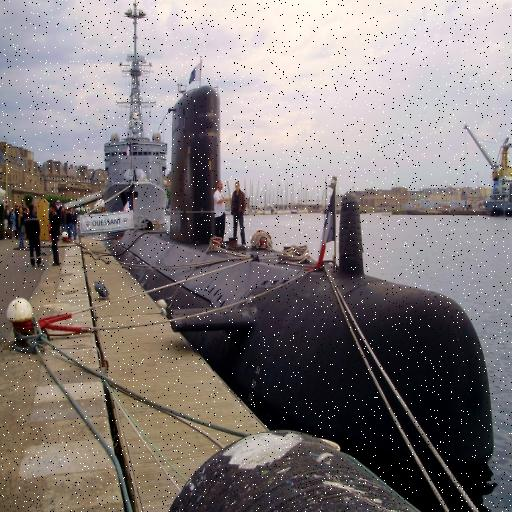submarine: (111, 86, 494, 465)
